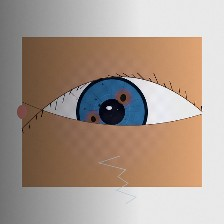foreign_body_visible: (115, 118, 162, 155)
